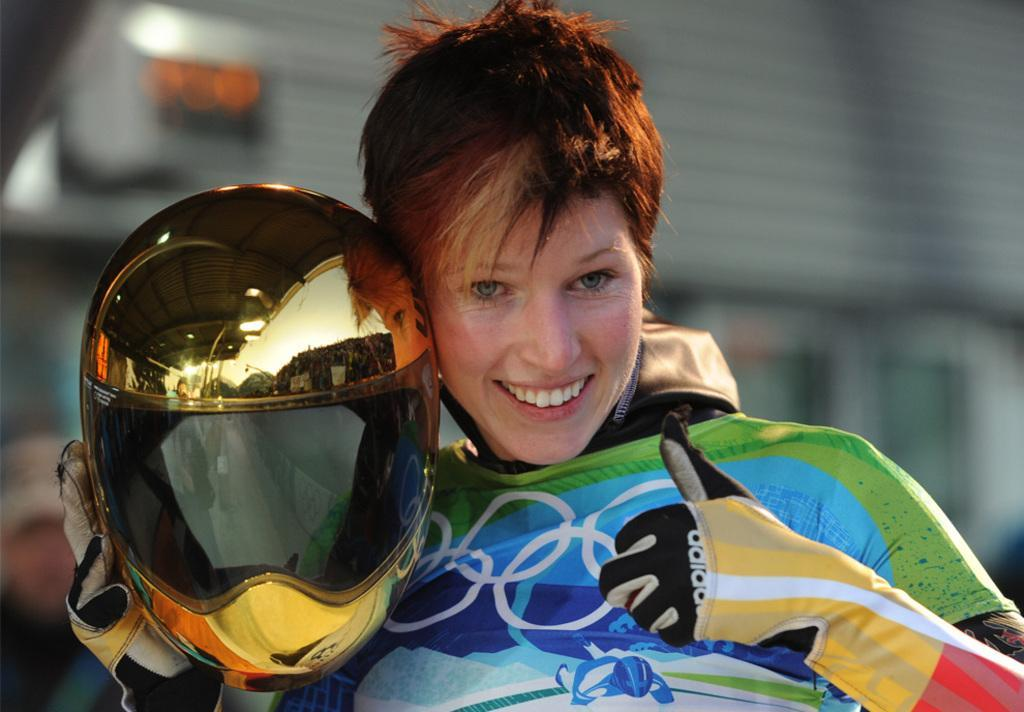helmet: (77, 180, 444, 697)
nohelmet: (359, 0, 666, 468)
